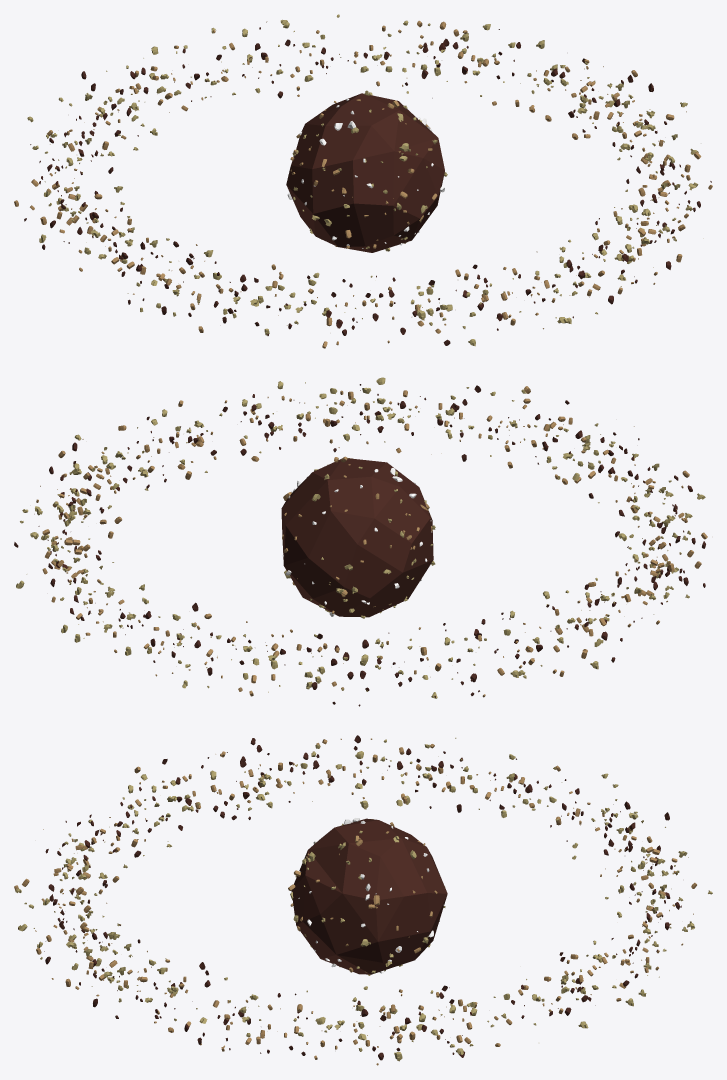
Rendered from Planet_2.glb.
3 renders of one model, top to bottom at view 1: azimuth 30°, elevation 25°; view 2: azimuth 150°, elevation 25°; view 3: azimuth 270°, elevation 25°, orthographic. The views are drawn at different scales.
Visible parts, largest first — view 1: planet_2, Asteriods; view 2: planet_2, Asteriods; view 3: planet_2, Asteriods.
Part boxes in pixels (<box>): planet_2: <box>286,90,447,252</box>; Asteriods: <box>14,14,712,348</box>; planet_2: <box>281,456,435,618</box>; Asteriods: <box>14,377,707,706</box>; planet_2: <box>288,818,447,975</box>; Asteriods: <box>14,735,712,1065</box>.
Size of what is drawn, in the model's own units: 328 by 73.34 by 336.
